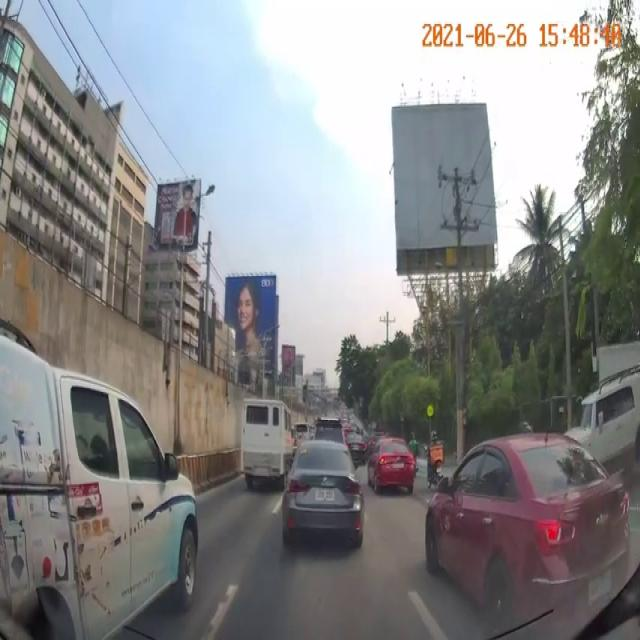car: (0, 361, 201, 609), (431, 454, 632, 619), (282, 440, 366, 547), (241, 392, 288, 485), (369, 437, 418, 506)
motorcycle: (424, 434, 446, 482)
